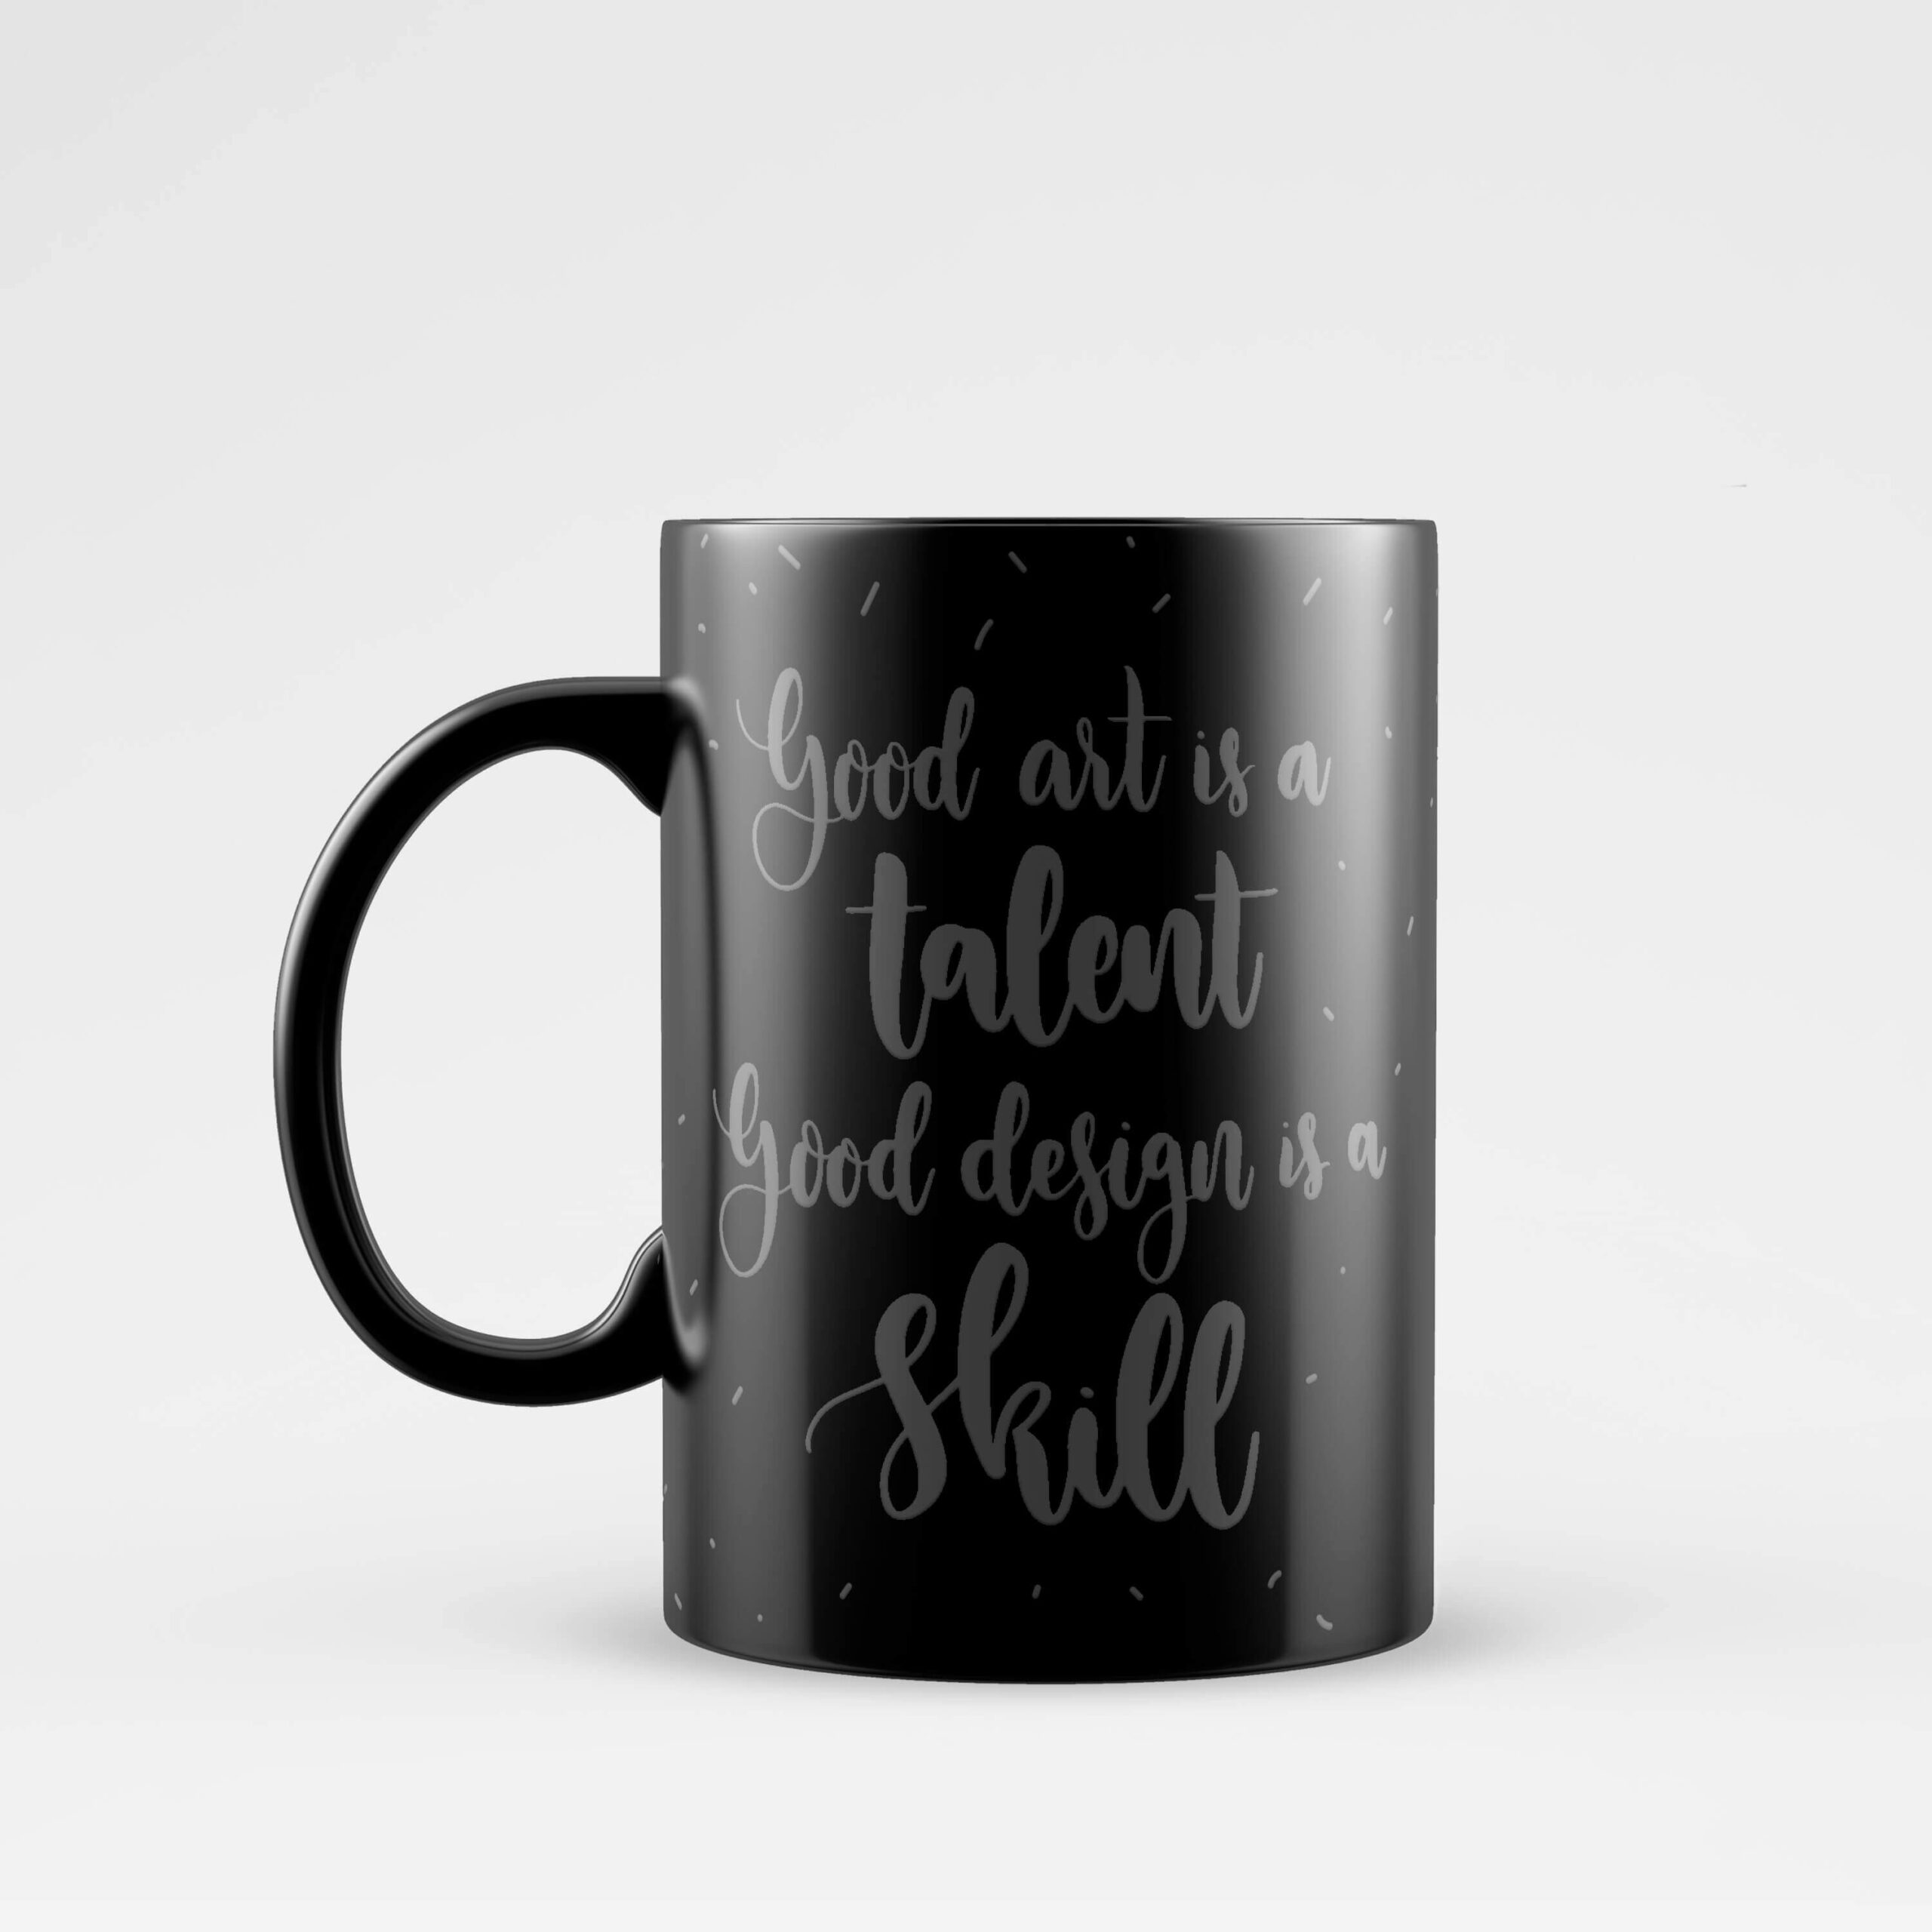gelas: (161, 437, 1587, 1706)
